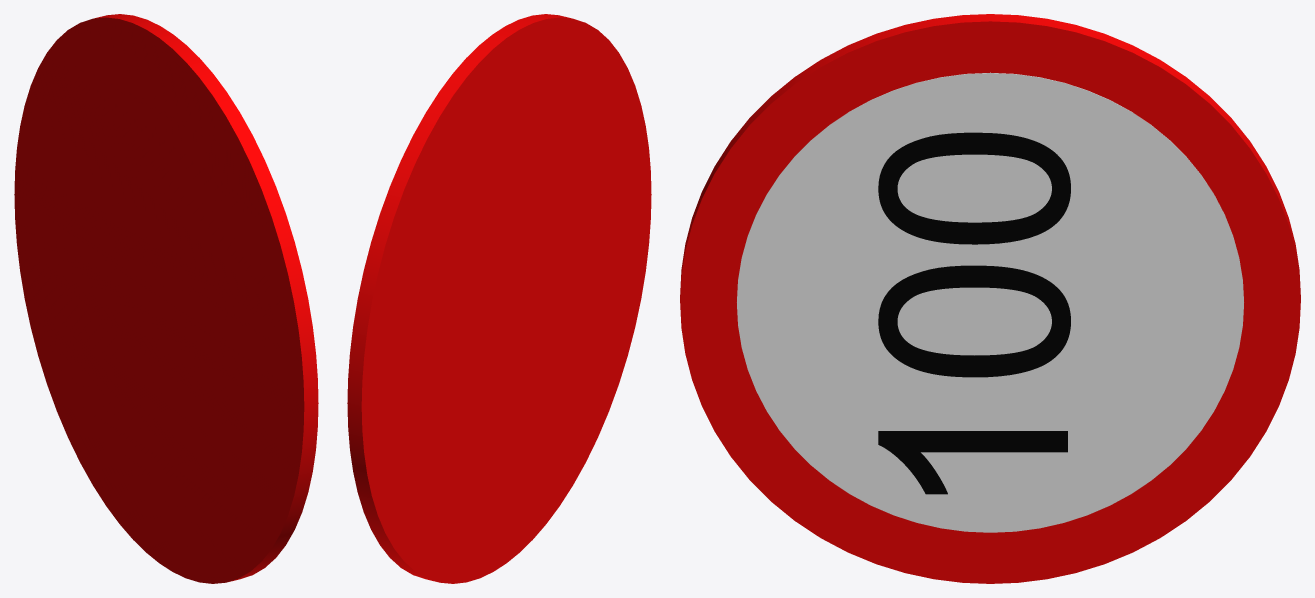
3 renders of one model, left to right at view 1: azimuth 30°, elevation 25°; view 2: azimuth 150°, elevation 25°; view 3: azimuth 270°, elevation 25°, orthographic. The views are drawn at different scales.
Parts seen in each view (by area): view 1: 100限速; view 2: 100限速; view 3: 100限速.
Boxes of the visible parts, x1,y1,x2,y2 form: 100限速: (14,14,318,583); 100限速: (347,14,651,583); 100限速: (680,14,1300,583).
Size of the model in its own units: 0.0236 by 0.7737 by 0.7737.
